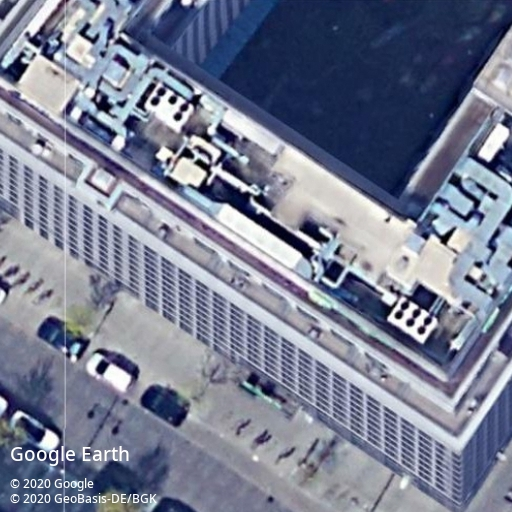Chiller: (144, 82, 196, 132), (386, 296, 438, 344)
